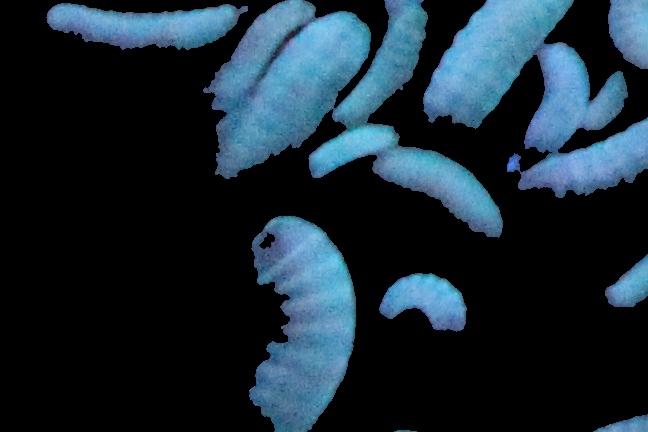larvae: (222, 12, 369, 178), (244, 219, 358, 432), (429, 1, 580, 137), (370, 146, 509, 246), (196, 4, 312, 120), (516, 119, 648, 213), (46, 1, 242, 63), (340, 1, 427, 120), (377, 272, 470, 348), (534, 46, 588, 149)
